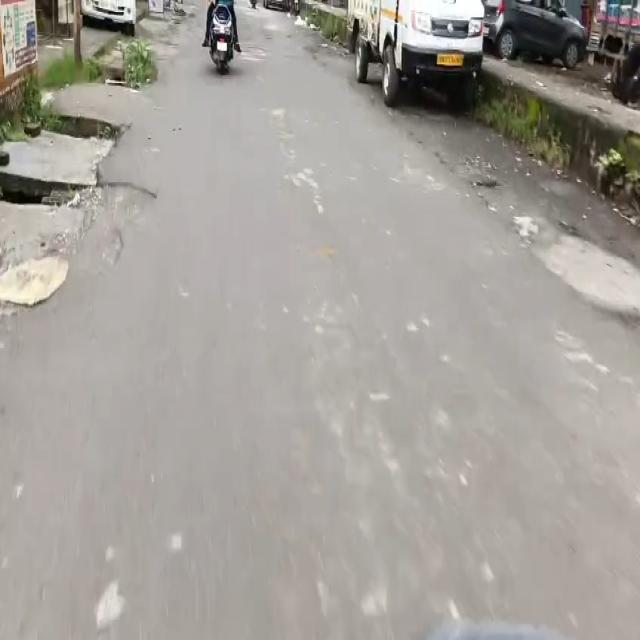road-pothole: (95, 180, 157, 266)
